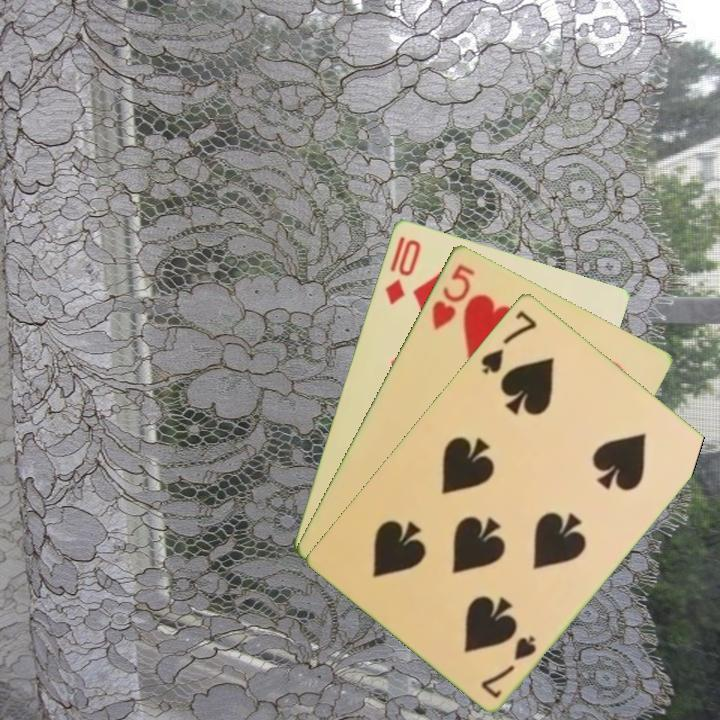10d: (381, 235, 424, 307)
5h: (427, 260, 478, 333)
7s: (477, 306, 540, 377), (477, 631, 540, 701)
